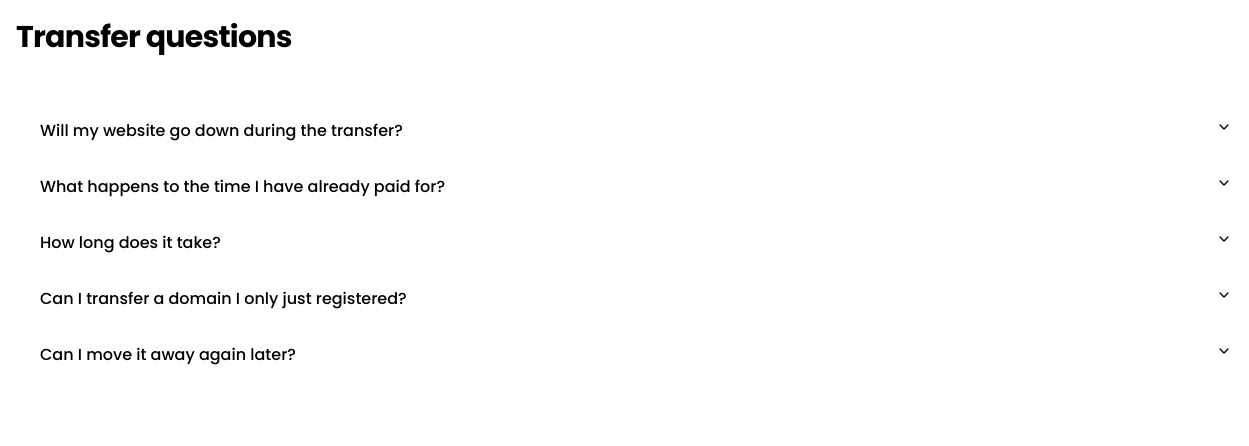
TransferFaq › opens one answer at a time
Expected: the heading "Transfer questions" is shown, [16,16,292,58]
Click the button "Will my website go down during the transfer?" at (221,130), box [40,103,1232,159]
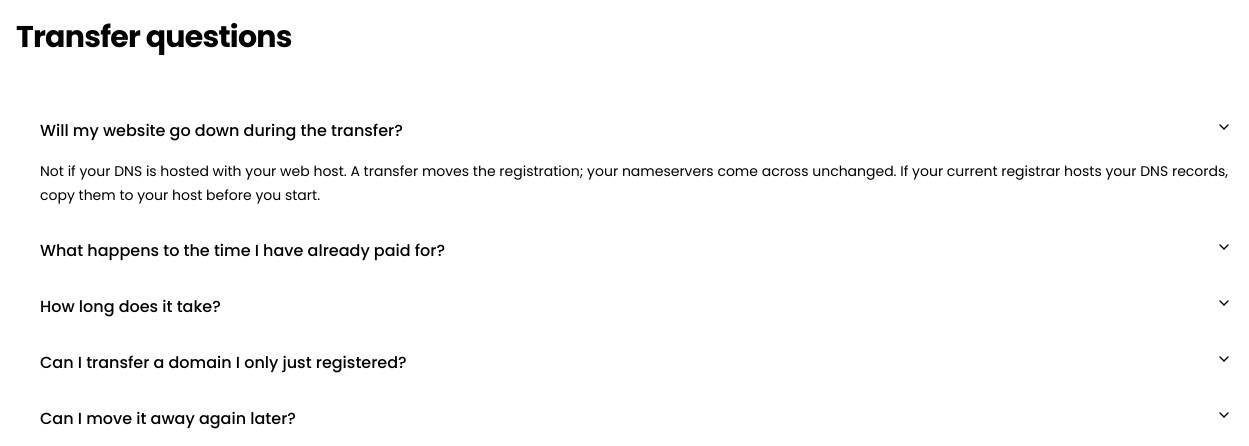
Result: the text "your nameservers come across unchanged" is shown at [40,161,1228,205]
Click the button "How long does it take?" at (130,306), box [40,279,1232,335]
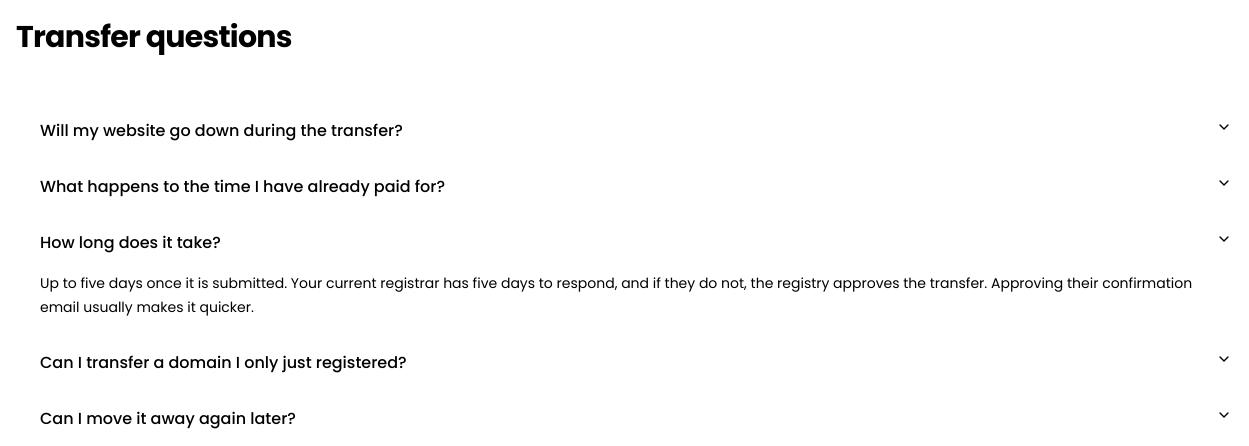
Result: the text "Up to five days once it is submitted" is shown at [40,273,1192,317]
Result: the text "your nameservers come across unchanged" is gone
